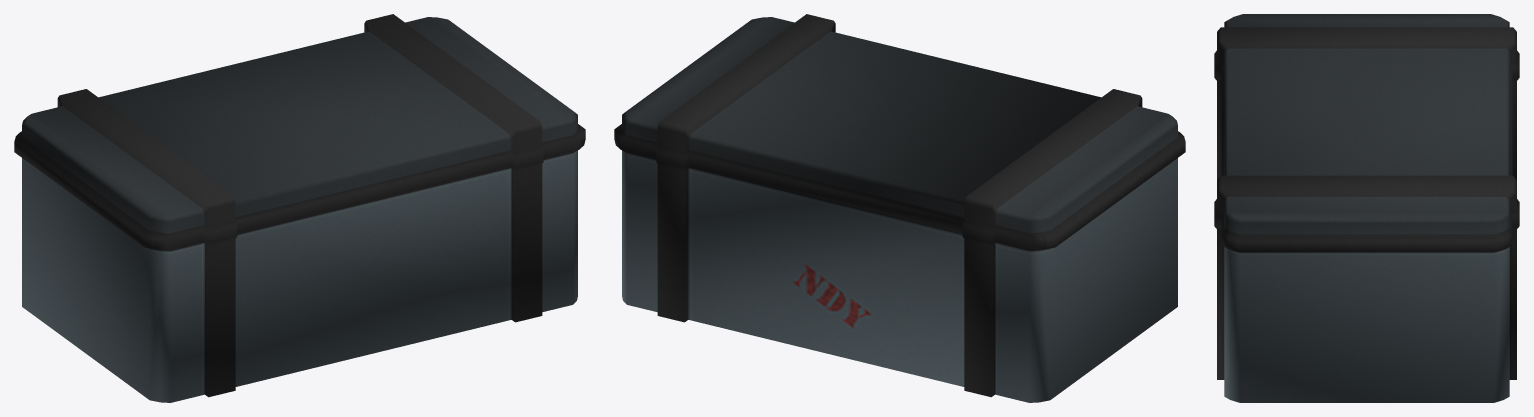
Rendered from Supplycrate_01_v03.obj.
3 views of the same model, side by side, from view 1: azimuth 30°, elevation 25°; view 2: azimuth 150°, elevation 25°; view 3: azimuth 270°, elevation 25° (orthographic).
Parts seen in each view (by area): view 1: polySurface4; view 2: polySurface4; view 3: polySurface4.
Part boxes in pixels (x1=…): polySurface4: x1=14, y1=14, x2=585, y2=402; polySurface4: x1=614, y1=14, x2=1185, y2=402; polySurface4: x1=1214, y1=14, x2=1519, y2=402.
Bounding box in the file's own units: 23.27 × 9.72 × 14.08.
1 material, 1 textured.
